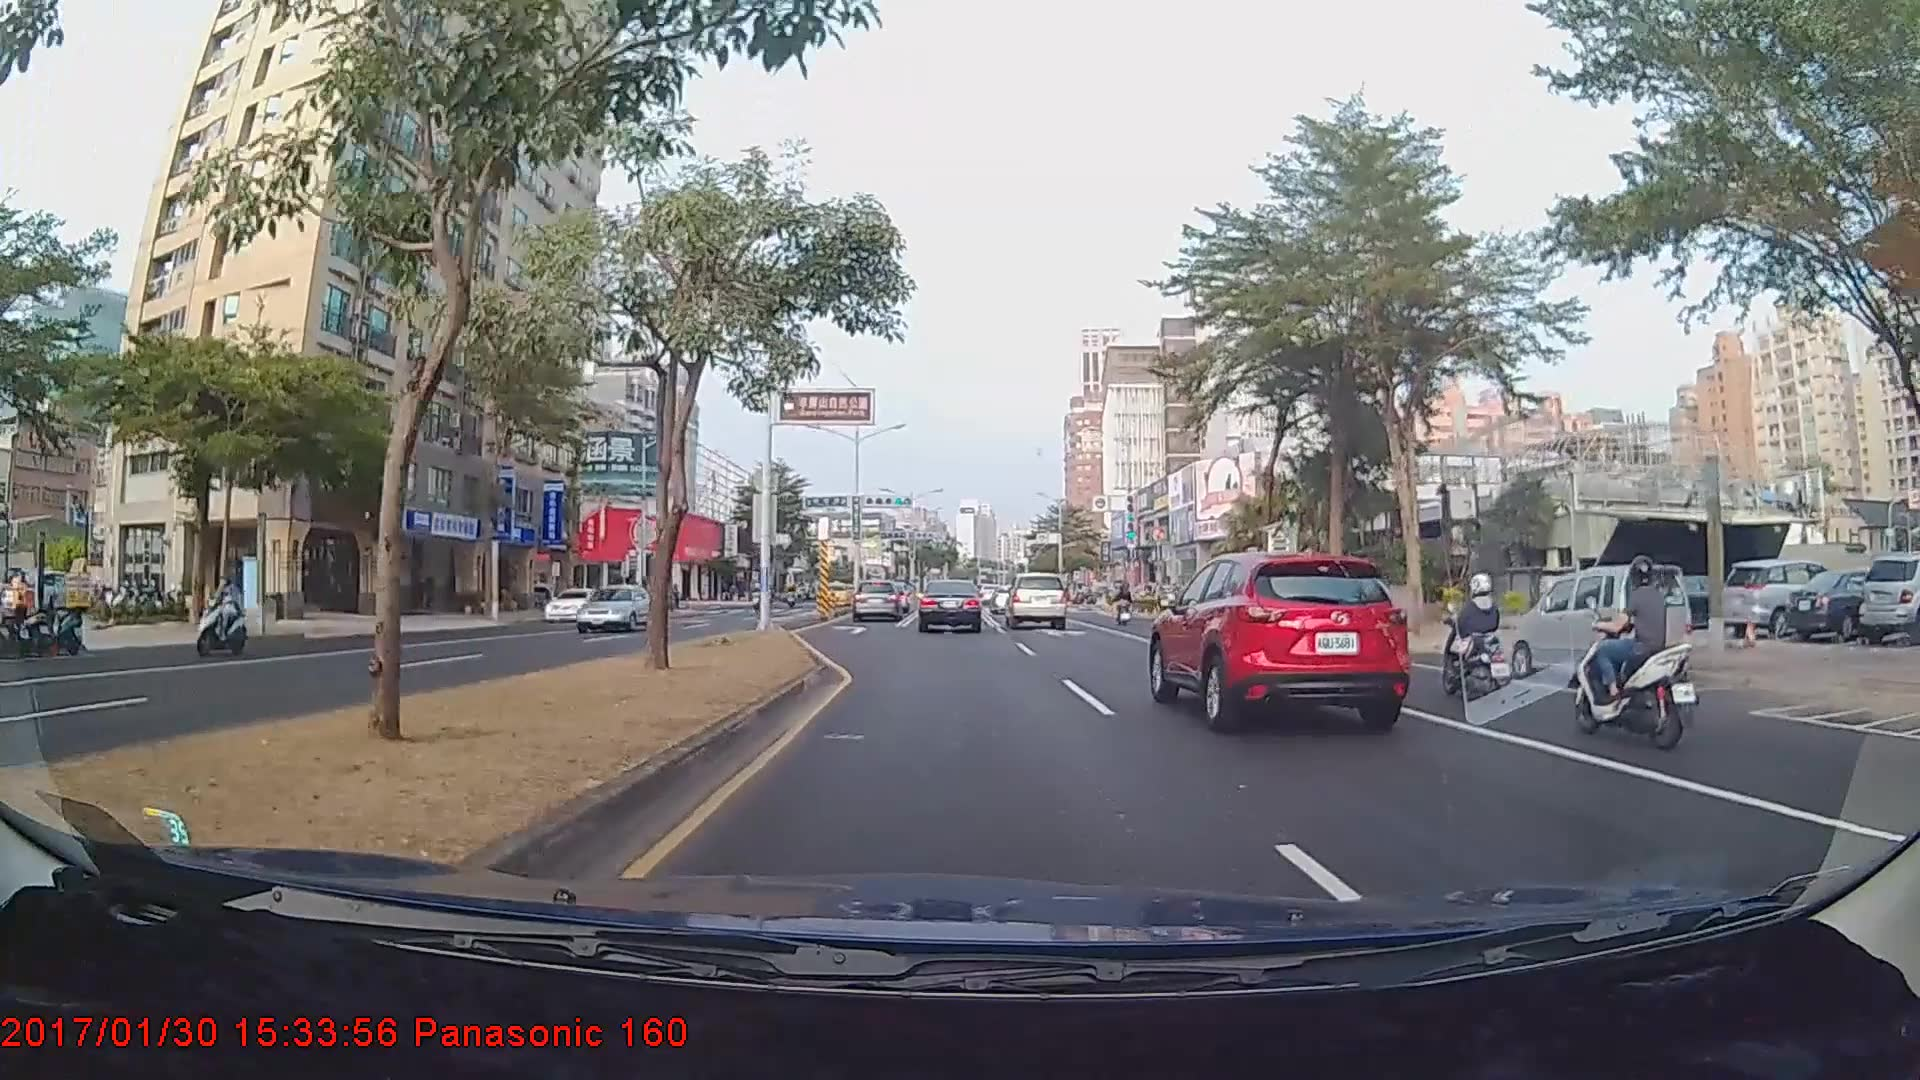rider: (1560, 554, 1698, 745), (1431, 572, 1528, 714), (191, 572, 254, 660), (1115, 586, 1138, 630)
vehicle: (1150, 545, 1412, 726), (1512, 563, 1693, 692), (1719, 560, 1849, 637), (573, 582, 656, 632), (1004, 571, 1068, 629), (918, 578, 983, 634), (851, 578, 916, 623), (544, 586, 610, 621)
